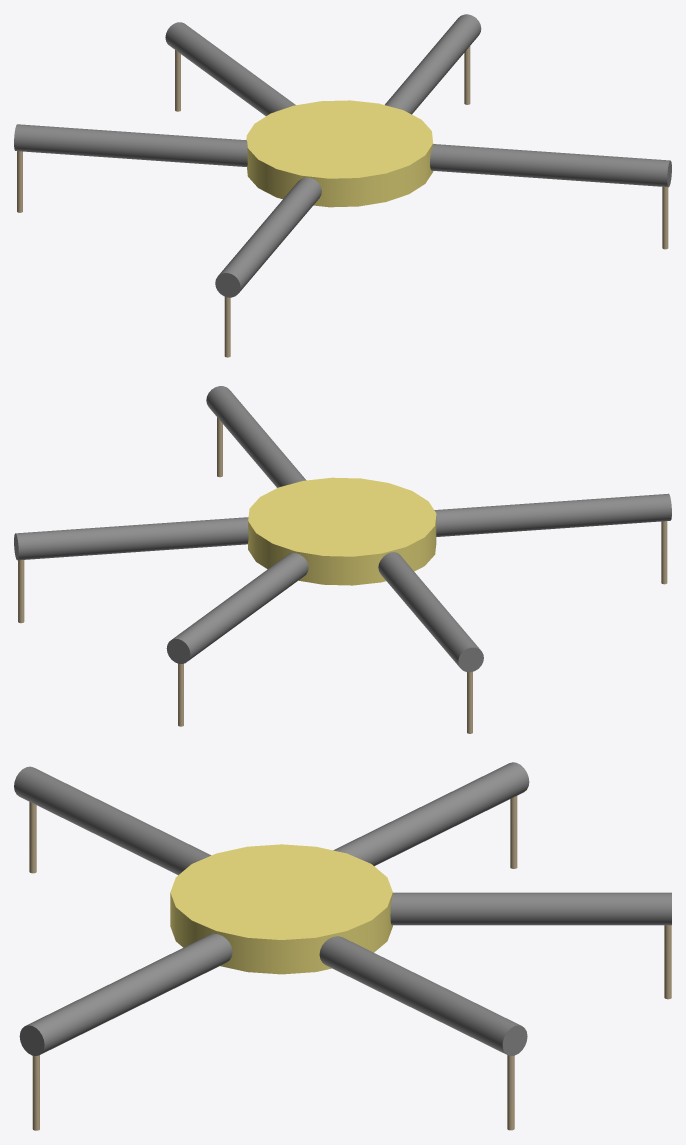
File: Giratorio1_cuna.obj
3 renders of one model, top to bottom at view 1: azimuth 30°, elevation 25°; view 2: azimuth 150°, elevation 25°; view 3: azimuth 270°, elevation 25°, orthographic. The views are drawn at different scales.
Visible parts, largest first — view 1: polySurface151; view 2: polySurface151; view 3: polySurface151.
Part boxes in pixels (left/top/right/bottom): polySurface151: left=14, top=14, right=671, bottom=357; polySurface151: left=14, top=386, right=671, bottom=733; polySurface151: left=14, top=762, right=671, bottom=1130.
Bounding box in the file's own units: 0.6202 × 0.1121 × 0.6306.
Materials: 2 (2 with a texture image).
